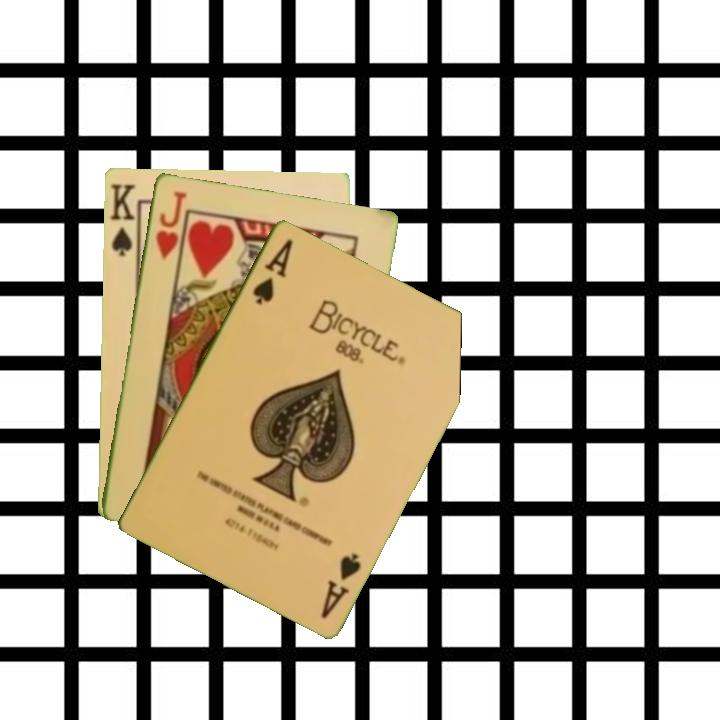As: (249, 234, 296, 307), (317, 549, 364, 622)
Jh: (152, 187, 189, 262)
Ks: (106, 180, 137, 259)
